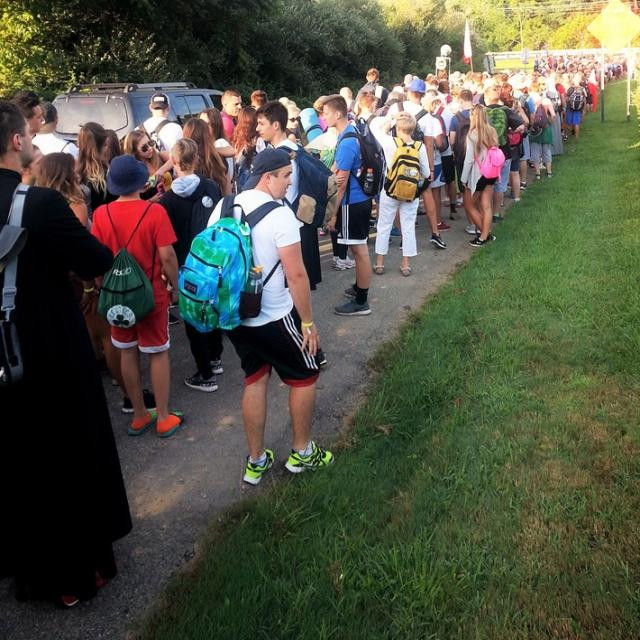body: (0, 100, 133, 612), (202, 147, 335, 486), (32, 149, 158, 413), (89, 153, 188, 439), (316, 176, 544, 274), (213, 66, 468, 144), (158, 136, 226, 392), (253, 100, 341, 294), (318, 92, 389, 318), (467, 50, 633, 133), (382, 77, 449, 251), (366, 110, 431, 278), (7, 88, 81, 186), (458, 102, 506, 249), (448, 89, 493, 236), (482, 84, 528, 222), (73, 120, 122, 211), (122, 128, 179, 205), (181, 116, 232, 199), (133, 91, 185, 160), (525, 82, 557, 181), (197, 107, 237, 183), (429, 114, 453, 233), (541, 76, 564, 156), (565, 75, 588, 142), (100, 124, 122, 163)
